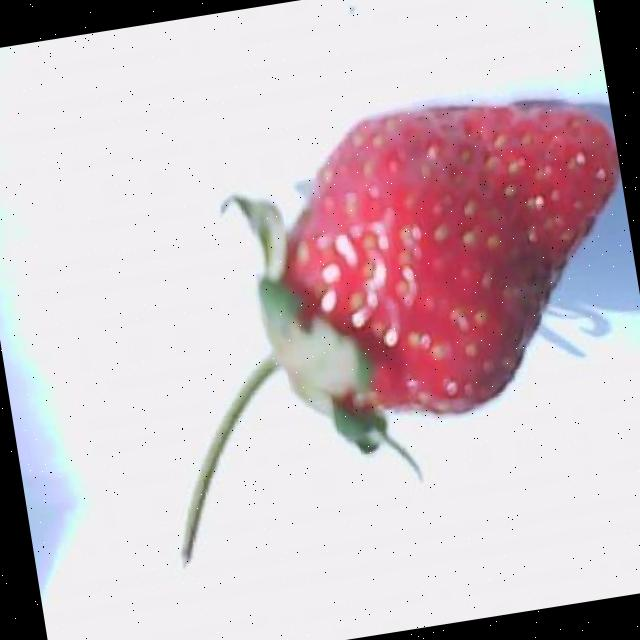strawberry: (184, 106, 619, 563)
